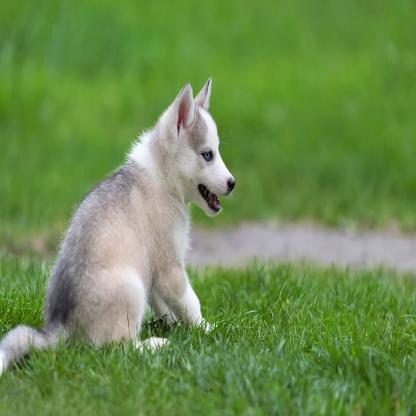husky: (0, 70, 236, 373)
